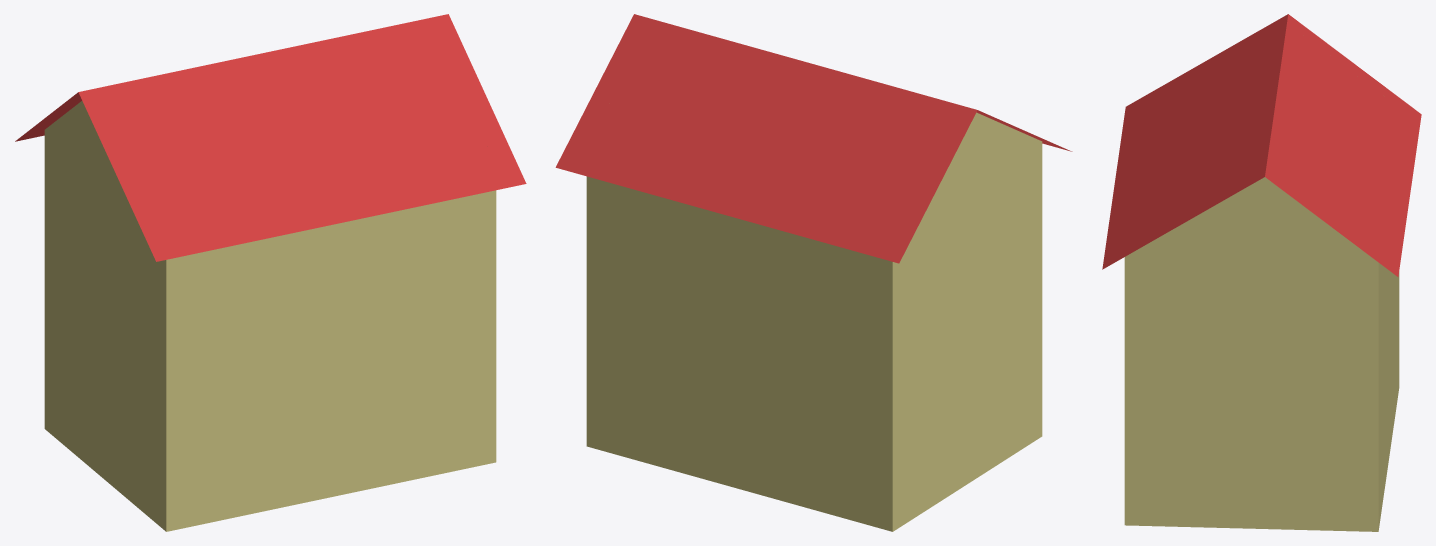
3 views of the same model, side by side, from view 1: azimuth 30°, elevation 25°; view 2: azimuth 150°, elevation 25°; view 3: azimuth 270°, elevation 25° (orthographic). The views are drawn at different scales.
Size of the model in its own units: 9.59 by 7.59 by 9.47.
